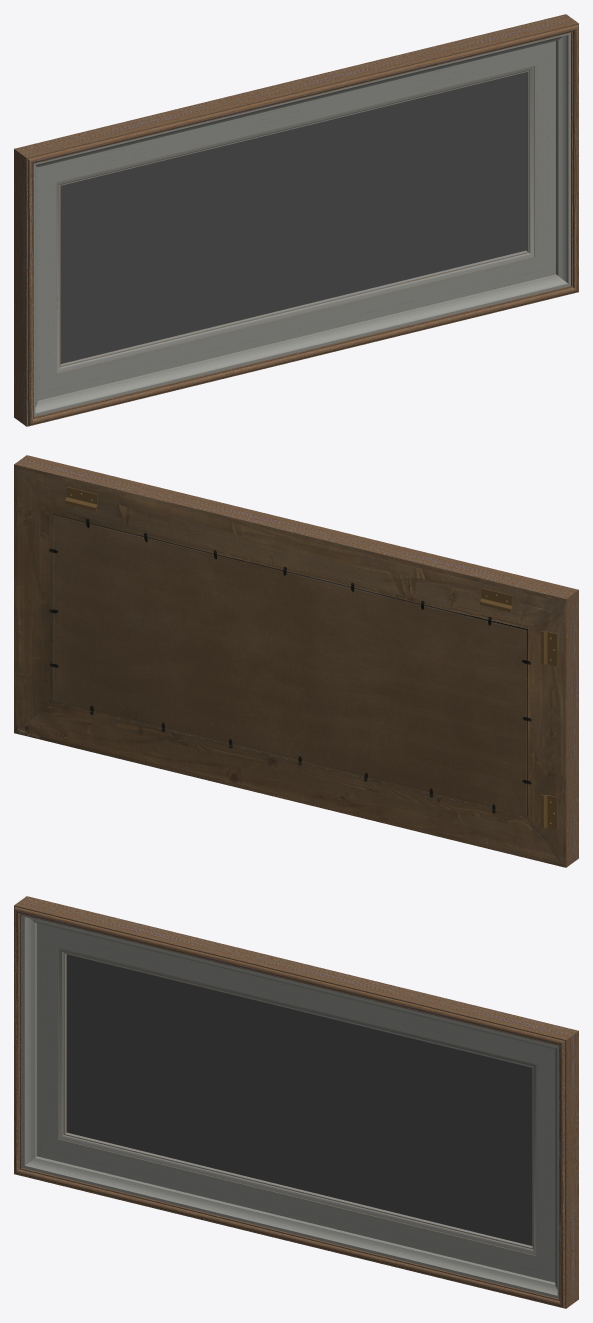
The model's file is example44.glb.
3 views of the same model, one above another, from view 1: azimuth 30°, elevation 25°; view 2: azimuth 150°, elevation 25°; view 3: azimuth 330°, elevation 25° (orthographic).
Visible parts, largest first — view 1: Buffer Layer (×3); view 2: Buffer Layer (×3); view 3: Buffer Layer (×3).
Boxes of the visible parts, left/top/right/bottom form: Buffer Layer (×3): left=14, top=14, right=578, bottom=426; Buffer Layer (×3): left=14, top=455, right=578, bottom=867; Buffer Layer (×3): left=14, top=896, right=578, bottom=1308.
Size of the model in its own units: 0.9353 by 0.4349 by 0.0466.
5 materials, 3 textured.
